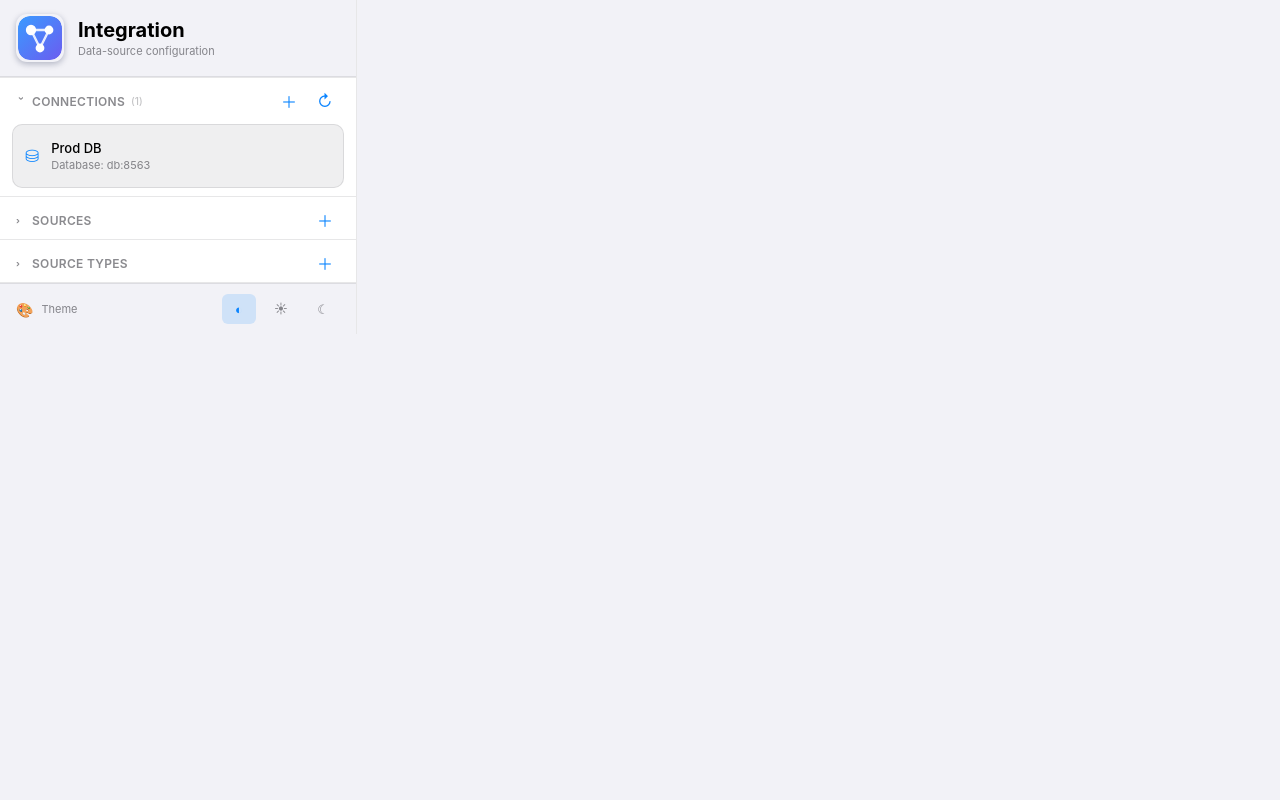
Scenario: IntegrationSidebar connections › lets a developer create a connection from the console
What coordinates should you click on to do the following:
click the 1st button titled "New connection"
I would click on:
 (289, 101)
Its box is [274, 86, 304, 116].
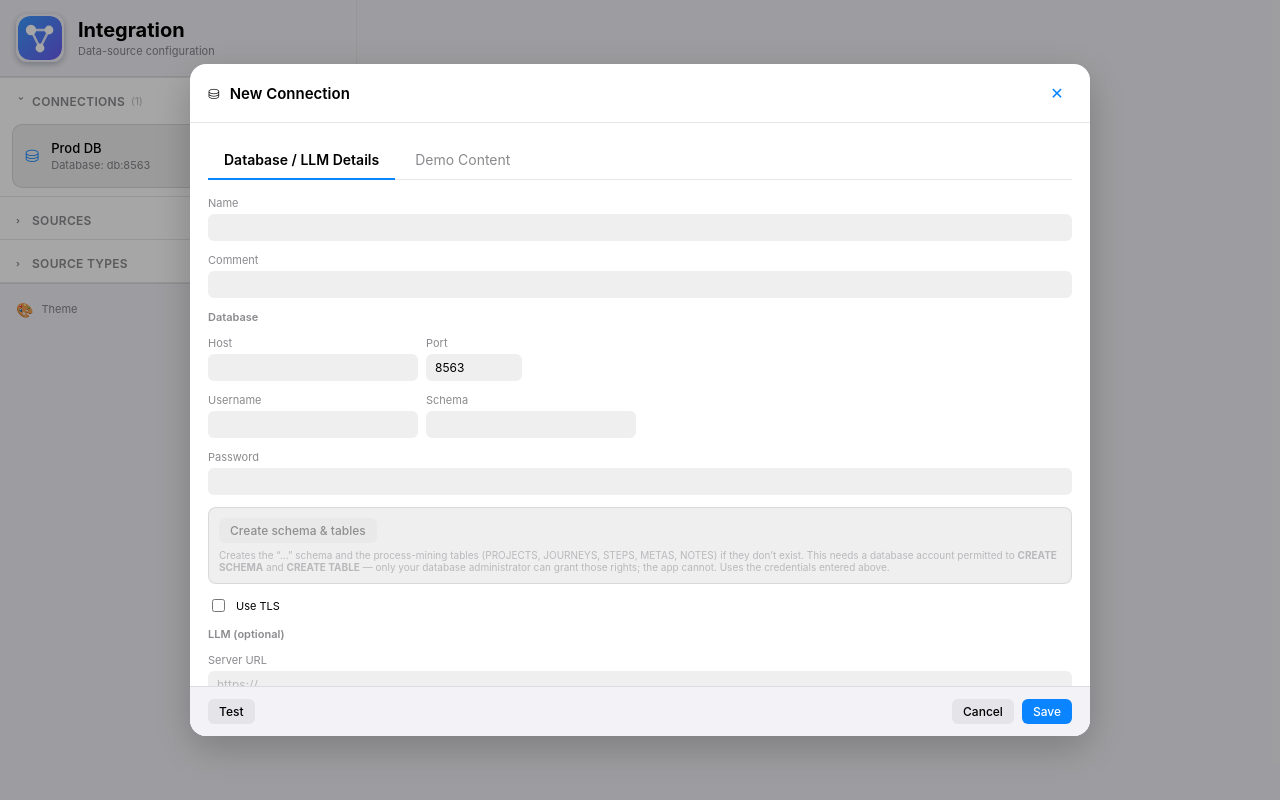
Check: the text "New Connection" is shown, box [230, 84, 350, 102]
